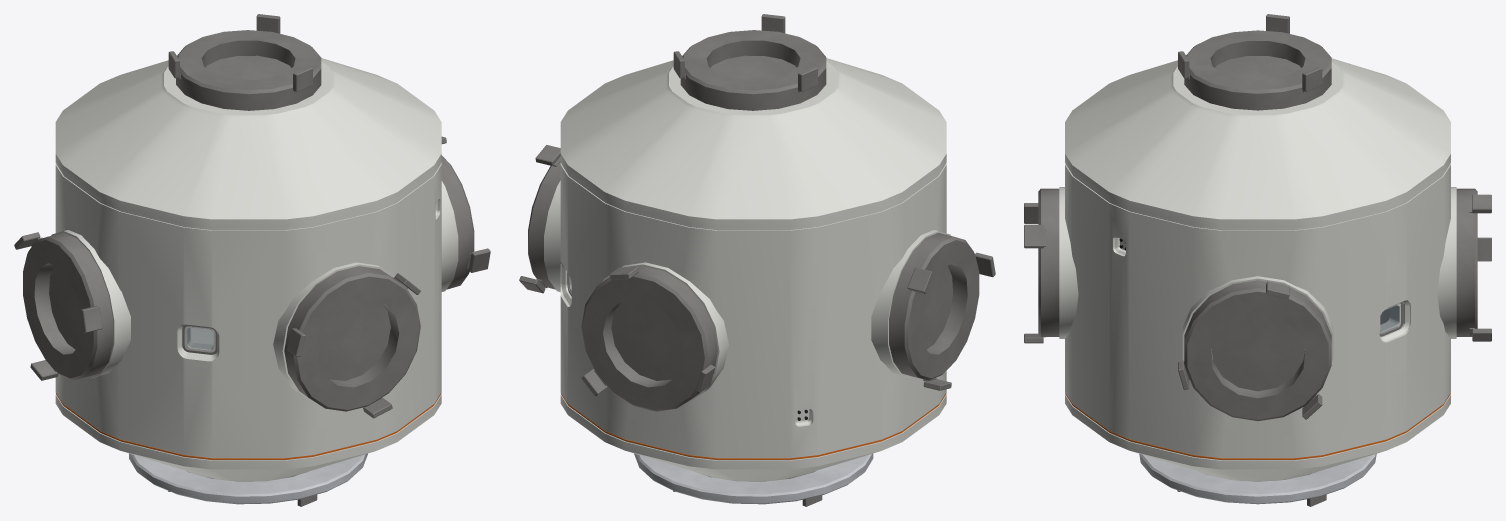
File: ax_grav_01_despun_hub.glb
3 renders of one model, left to right at view 1: azimuth 30°, elevation 25°; view 2: azimuth 150°, elevation 25°; view 3: azimuth 270°, elevation 25°, orthographic.
Parts seen in each view (by area): view 1: pressure_hull, port_4, port_3, port_top, bearing_interface_ring, hatch_door_6, port_1, port_3_pedestal, hatch_door_5, hatch_door_2, port_4_pedestal, port_1_pedestal (+5 smaller); view 2: pressure_hull, port_2, port_3, port_top, bearing_interface_ring, hatch_door_4, port_1, port_3_pedestal, hatch_door_5, hatch_door_2, port_2_pedestal, port_1_pedestal (+5 smaller); view 3: pressure_hull, port_1, port_top, hatch_door_3, bearing_interface_ring, port_4, port_2, port_2_pedestal, port_4_pedestal, hatch_door_2, port_1_pedestal, port_top_petals (+4 smaller).
Boxes of the visible parts, left/top/right/bottom form: pressure_hull: left=55, top=58, right=441, bottom=481; port_4: left=284, top=266, right=420, bottom=411; port_3: left=23, top=233, right=113, bottom=380; port_top: left=176, top=30, right=321, bottom=110; bearing_interface_ring: left=129, top=453, right=367, bottom=504; hatch_door_6: left=318, top=299, right=390, bottom=380; port_1: left=441, top=155, right=474, bottom=289; port_3_pedestal: left=51, top=230, right=130, bottom=378; hatch_door_5: left=49, top=265, right=81, bottom=349; hatch_door_2: left=205, top=55, right=291, bottom=80; port_4_pedestal: left=273, top=262, right=394, bottom=403; port_1_pedestal: left=441, top=181, right=458, bottom=291; pressure_hull: left=560, top=58, right=946, bottom=481; port_2: left=581, top=266, right=717, bottom=411; port_3: left=889, top=233, right=979, bottom=380; port_top: left=680, top=30, right=826, bottom=110; bearing_interface_ring: left=634, top=453, right=873, bottom=504; hatch_door_4: left=611, top=299, right=683, bottom=380; port_1: left=528, top=162, right=560, bottom=289; port_3_pedestal: left=871, top=230, right=950, bottom=378; hatch_door_5: left=920, top=265, right=952, bottom=349; hatch_door_2: left=711, top=55, right=796, bottom=80; port_2_pedestal: left=602, top=262, right=728, bottom=403; port_1_pedestal: left=544, top=180, right=560, bottom=292; pressure_hull: left=1065, top=58, right=1450, bottom=481; port_1: left=1184, top=280, right=1331, bottom=421; port_top: left=1184, top=30, right=1331, bottom=110; hatch_door_3: left=1211, top=314, right=1304, bottom=391; bearing_interface_ring: left=1139, top=454, right=1376, bottom=504; port_4: left=1038, top=188, right=1059, bottom=336; port_2: left=1456, top=188, right=1477, bottom=336; port_2_pedestal: left=1437, top=187, right=1456, bottom=338; port_4_pedestal: left=1059, top=187, right=1078, bottom=338; hatch_door_2: left=1215, top=56, right=1300, bottom=79; port_1_pedestal: left=1182, top=276, right=1333, bottom=361; port_top_petals: left=1178, top=14, right=1322, bottom=92.
Bounding box in the file's own units: 5.09 × 5.17 × 5.09.
Materials: 6 (2 with a texture image).
